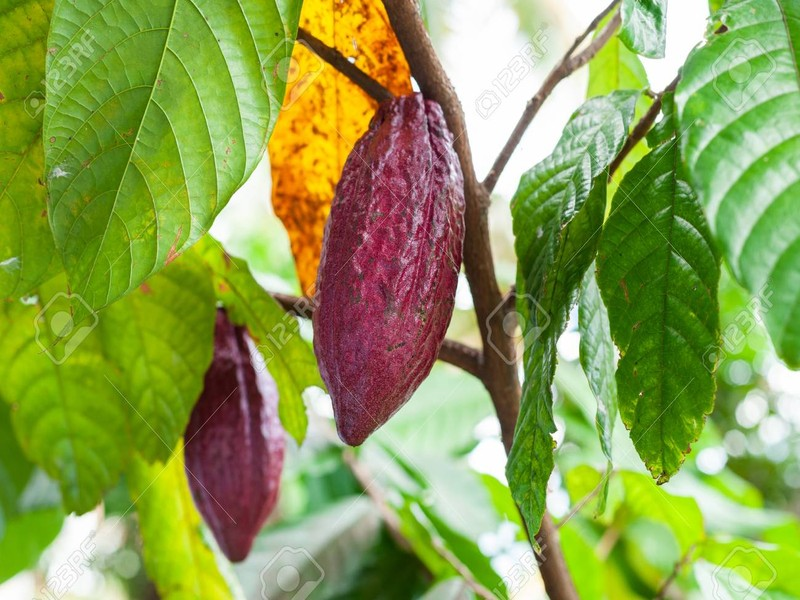Cacaopod: (312, 91, 468, 447)
